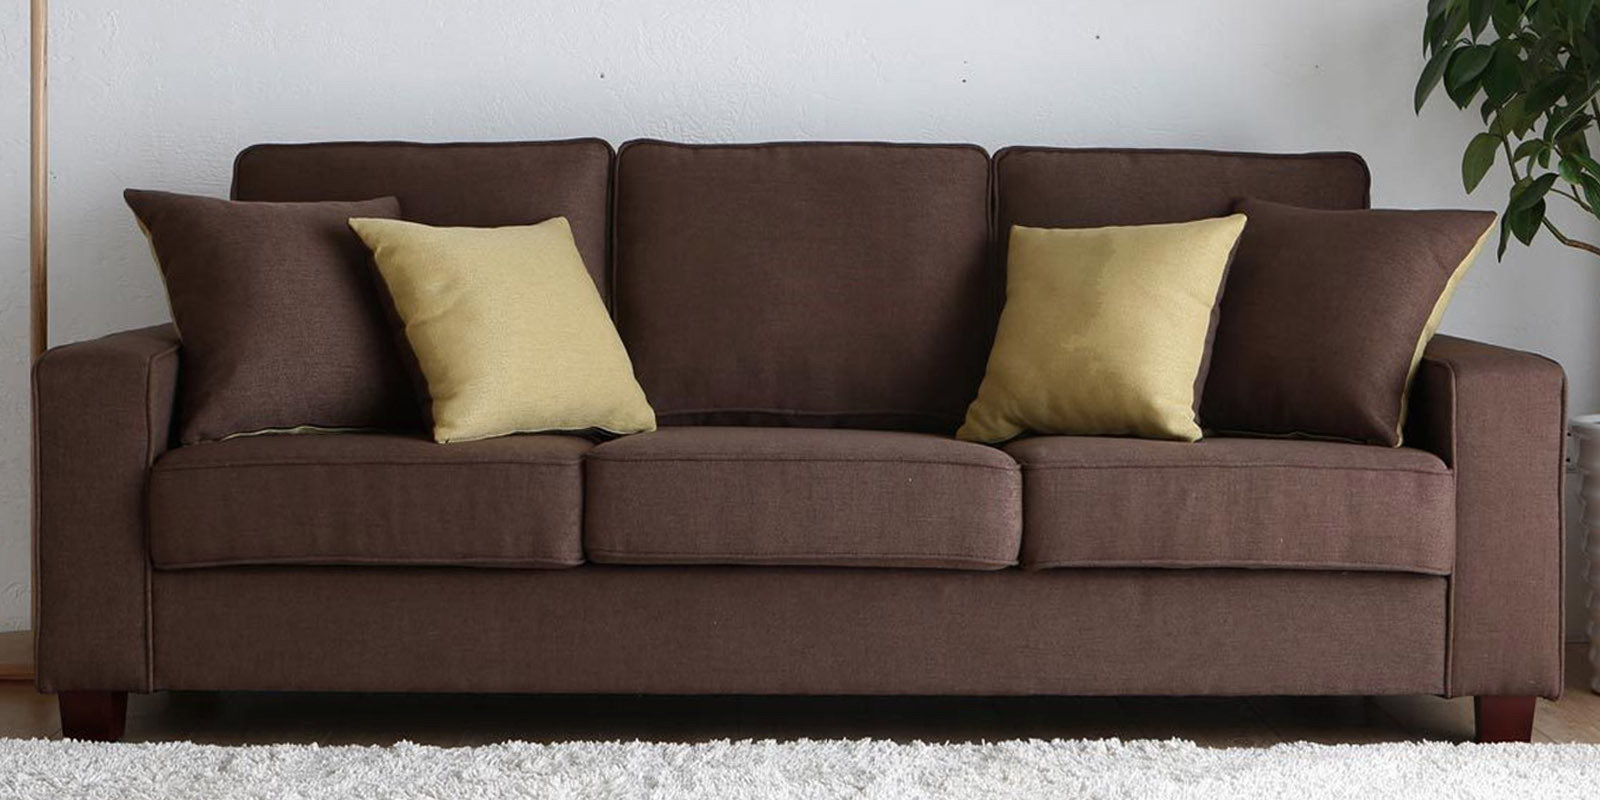Castilla Three Seater Sofa in Brown Colour by CasaCraft: (31, 135, 1587, 765)
